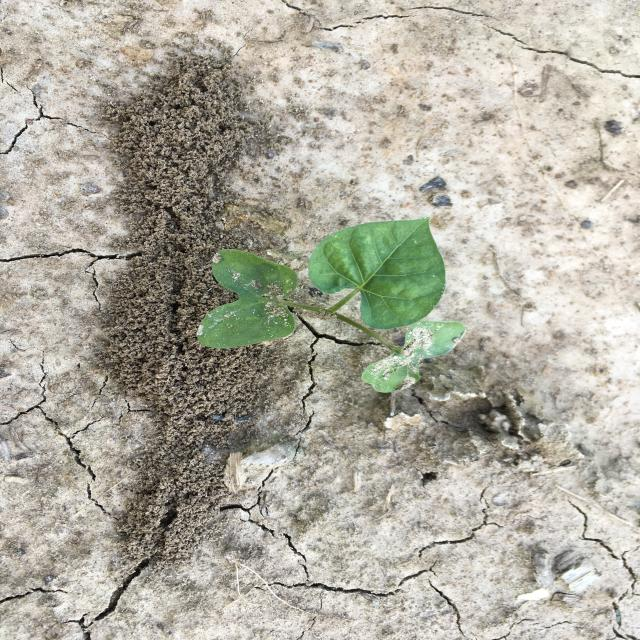MorningGlory: (193, 215, 468, 396)
